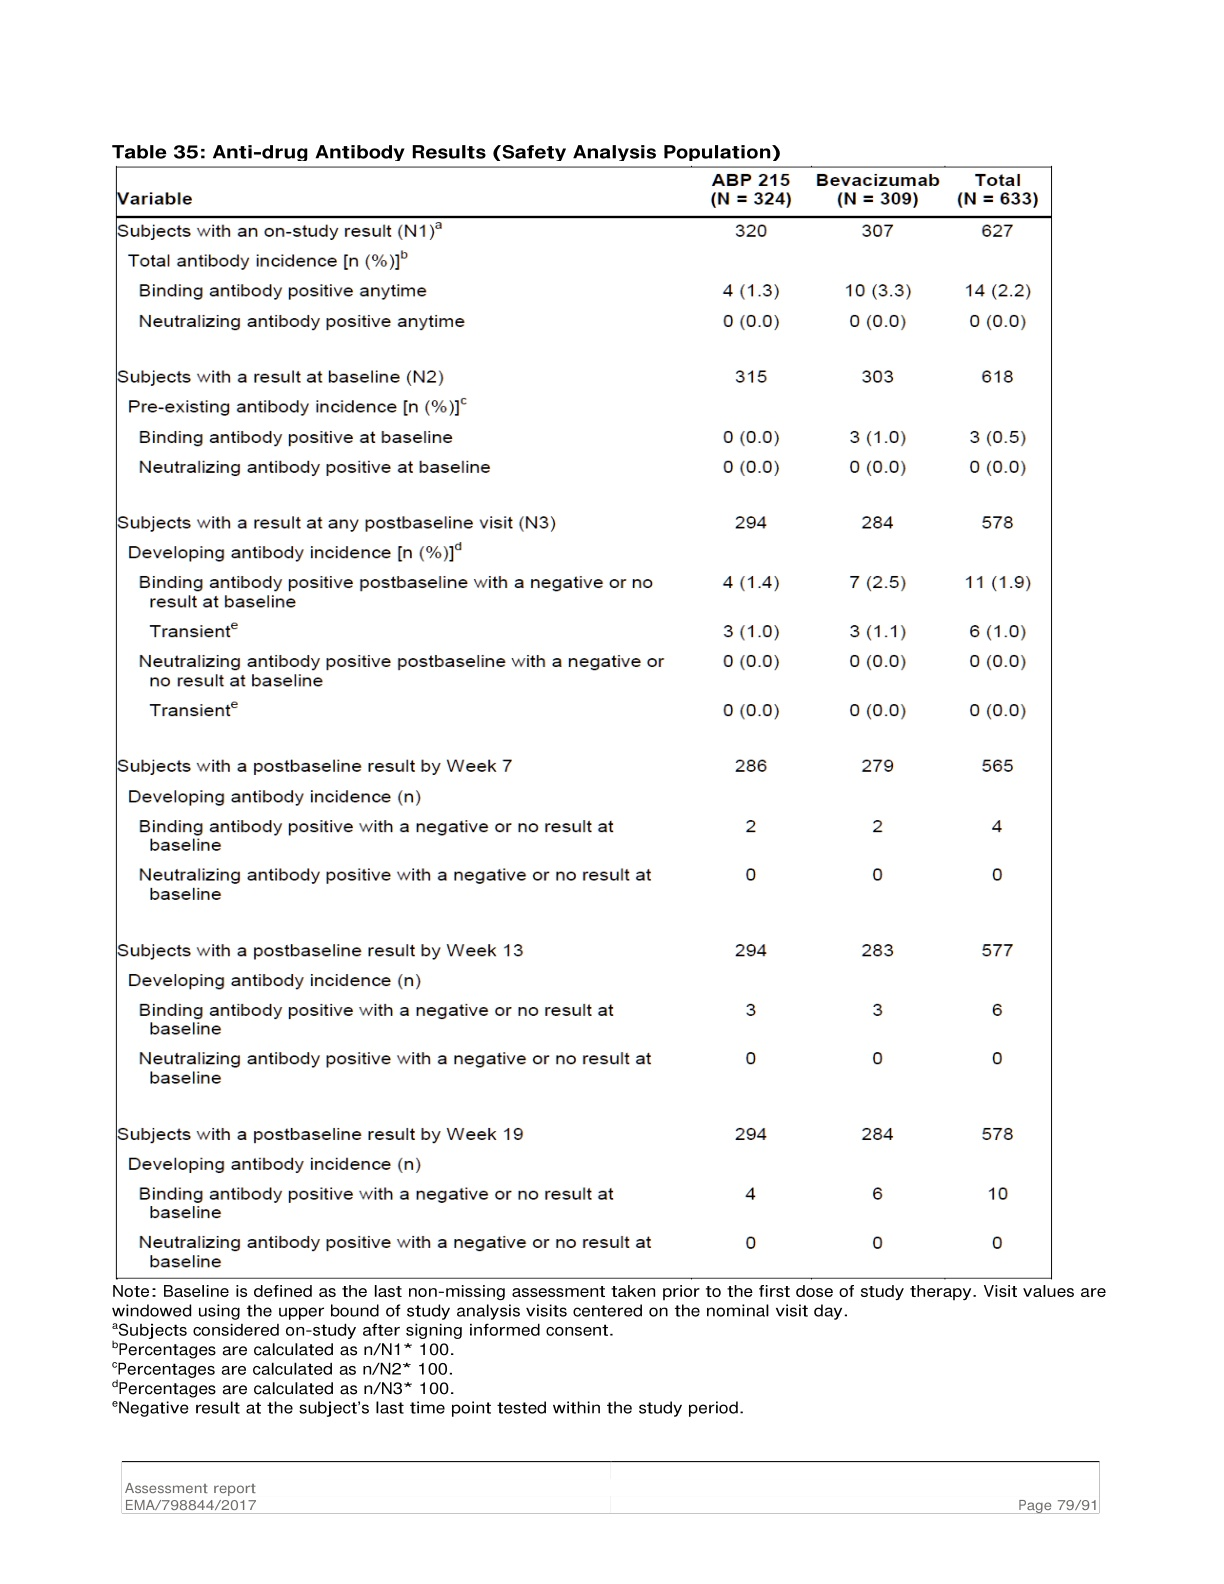partial_lined: (114, 166, 1053, 1281)
